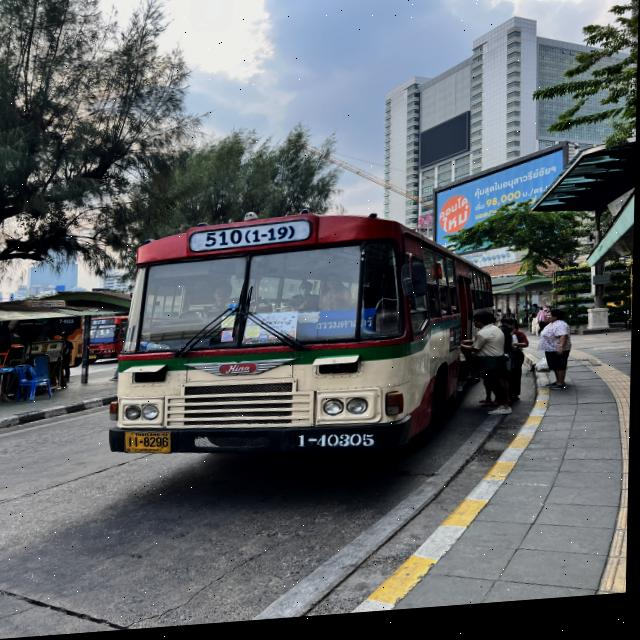BMTA-bus: (108, 207, 511, 477)
Bus-Line-Number: (198, 227, 299, 254)
Destination-Sign-Normal: (300, 311, 377, 344)
